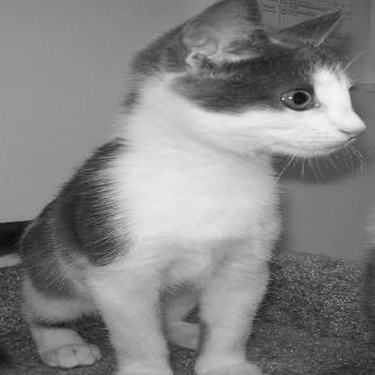cat: (15, 1, 366, 371)
